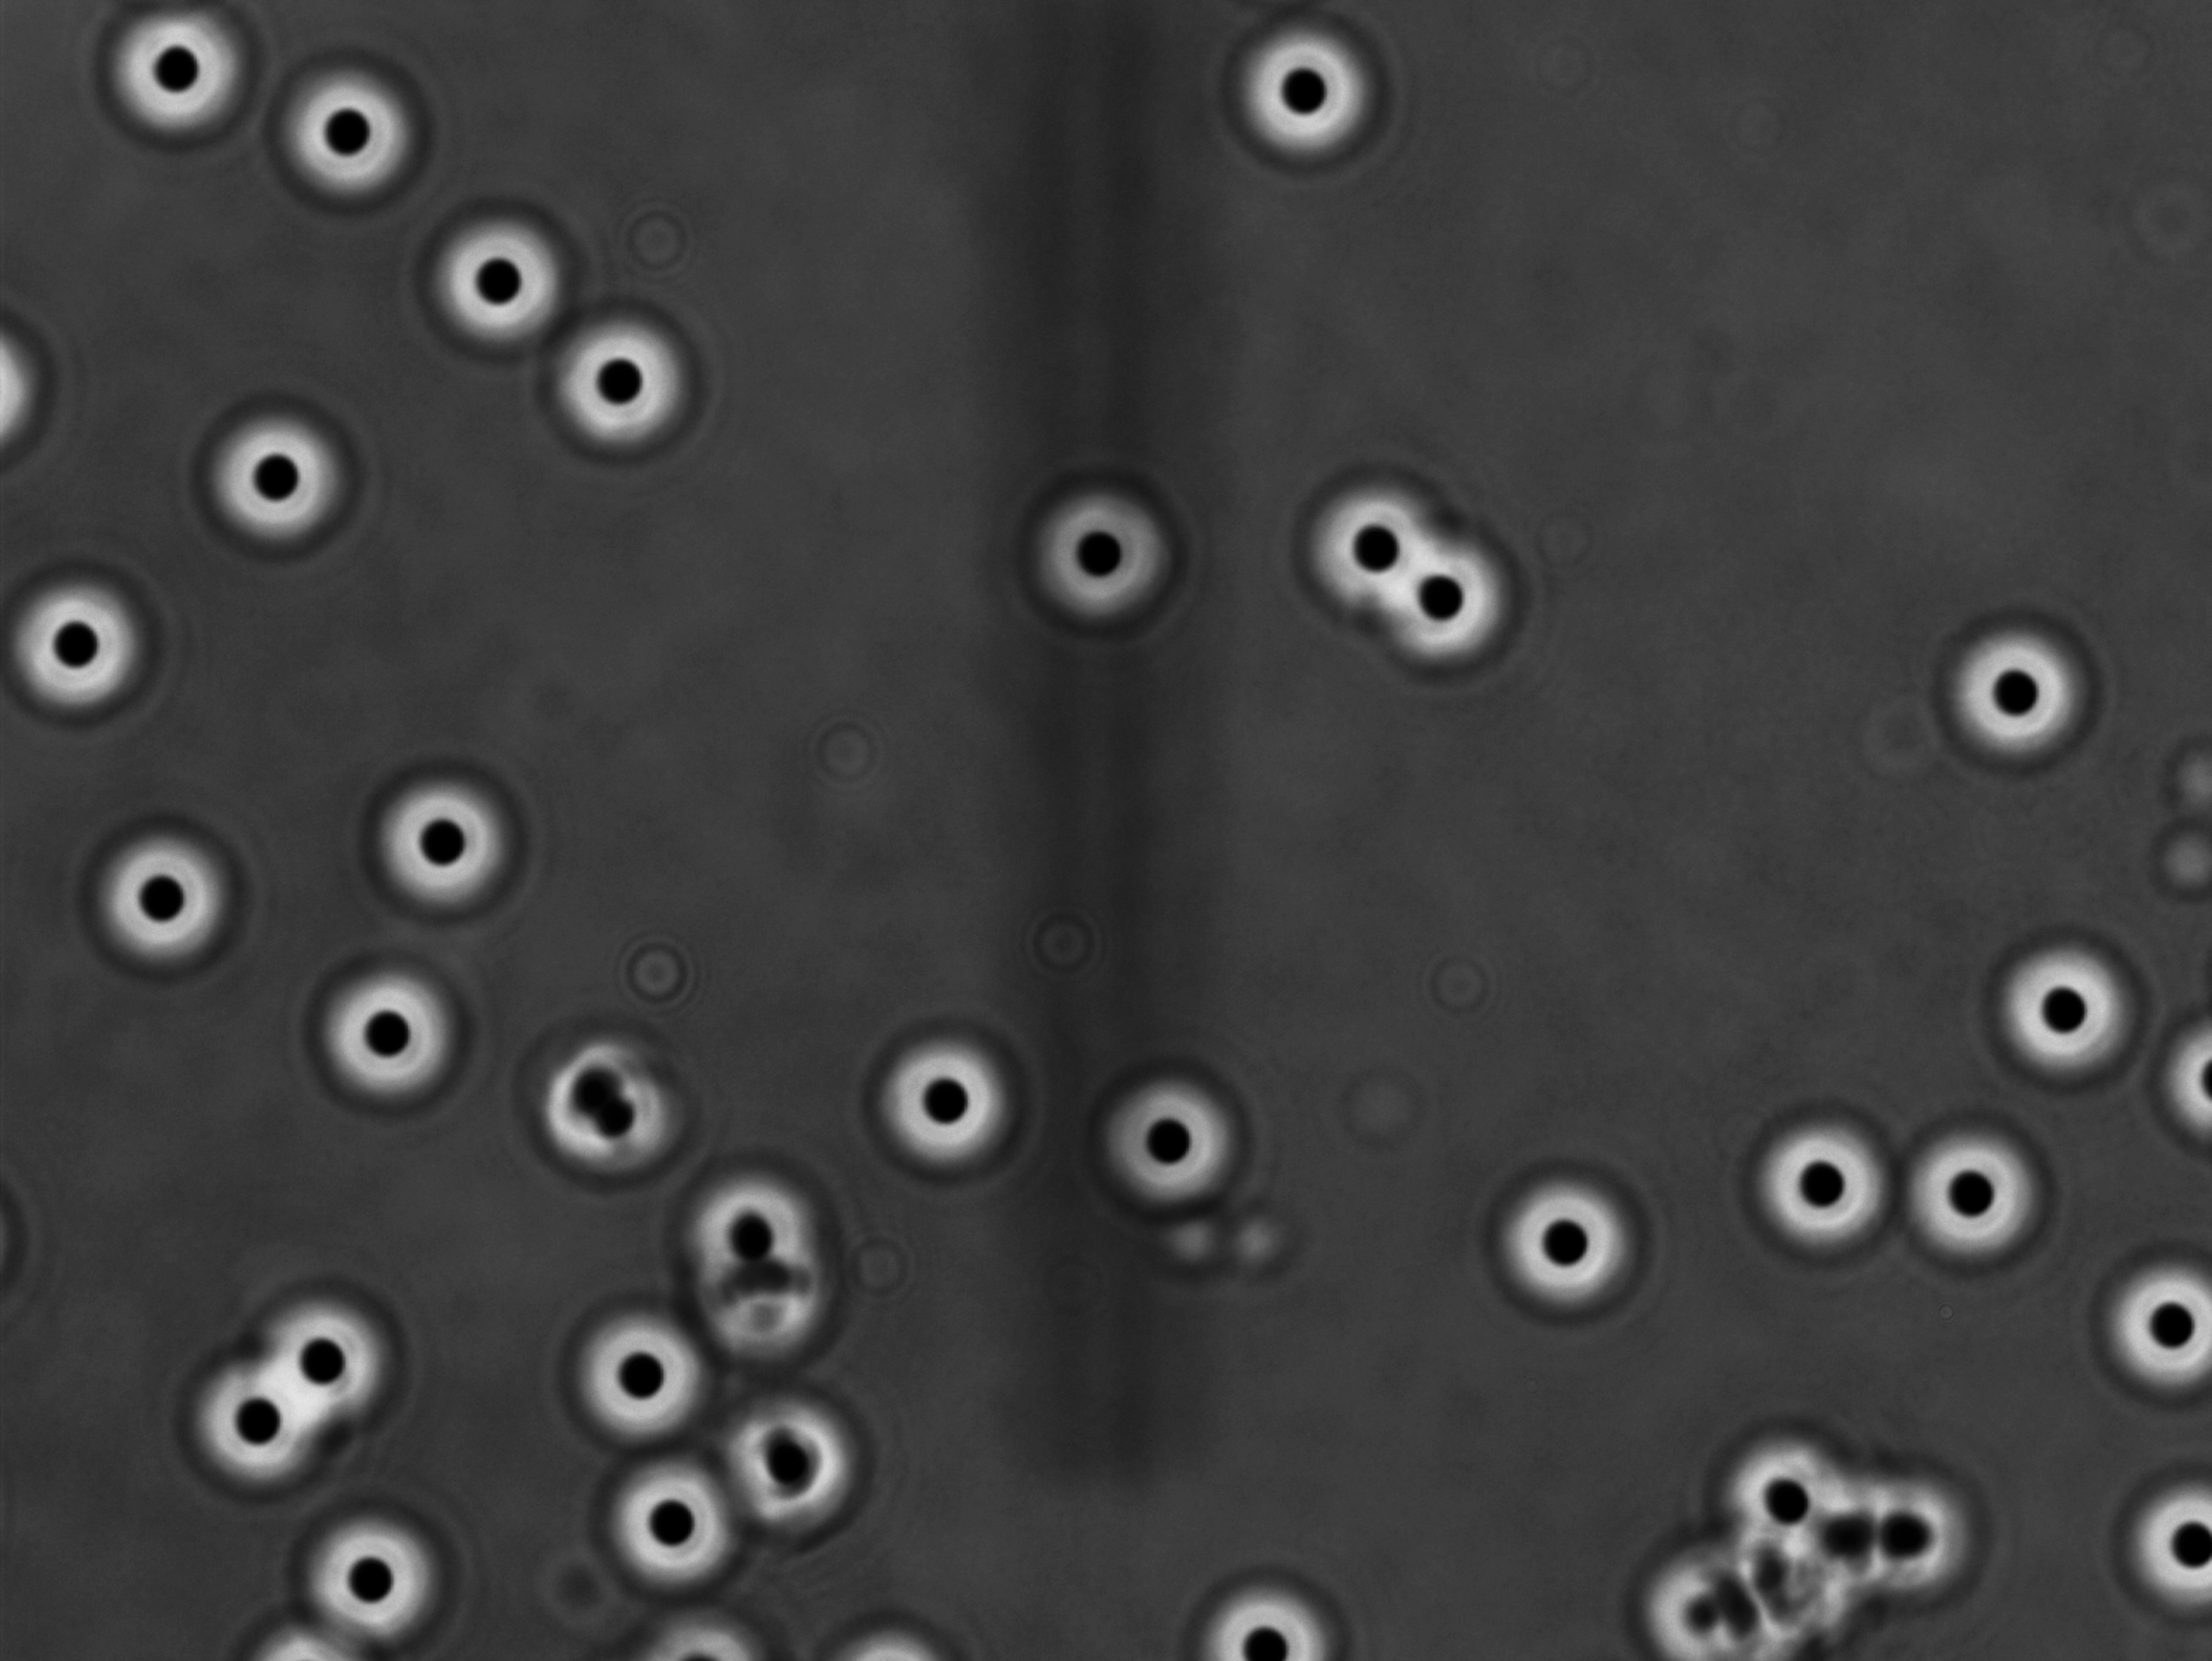depth:-40: (1973, 909, 2175, 1108), (68, 806, 270, 993), (173, 384, 377, 569), (1478, 1143, 1666, 1340), (295, 954, 490, 1139), (848, 1010, 1040, 1195), (1931, 604, 2120, 787), (248, 40, 445, 211), (1882, 1113, 2071, 1291), (534, 304, 726, 473), (1078, 1054, 1260, 1230), (558, 1291, 745, 1462), (1212, 14, 1399, 183), (349, 754, 539, 919), (1731, 1092, 1910, 1263), (1692, 1408, 1874, 1576), (1014, 478, 1191, 640), (1280, 455, 1460, 616), (241, 1274, 415, 1427), (419, 206, 595, 356), (598, 1455, 776, 1602), (1364, 522, 1533, 673), (178, 1349, 338, 1506), (2079, 1462, 2212, 1631), (2081, 1241, 2212, 1405), (1176, 1567, 1359, 1661)
